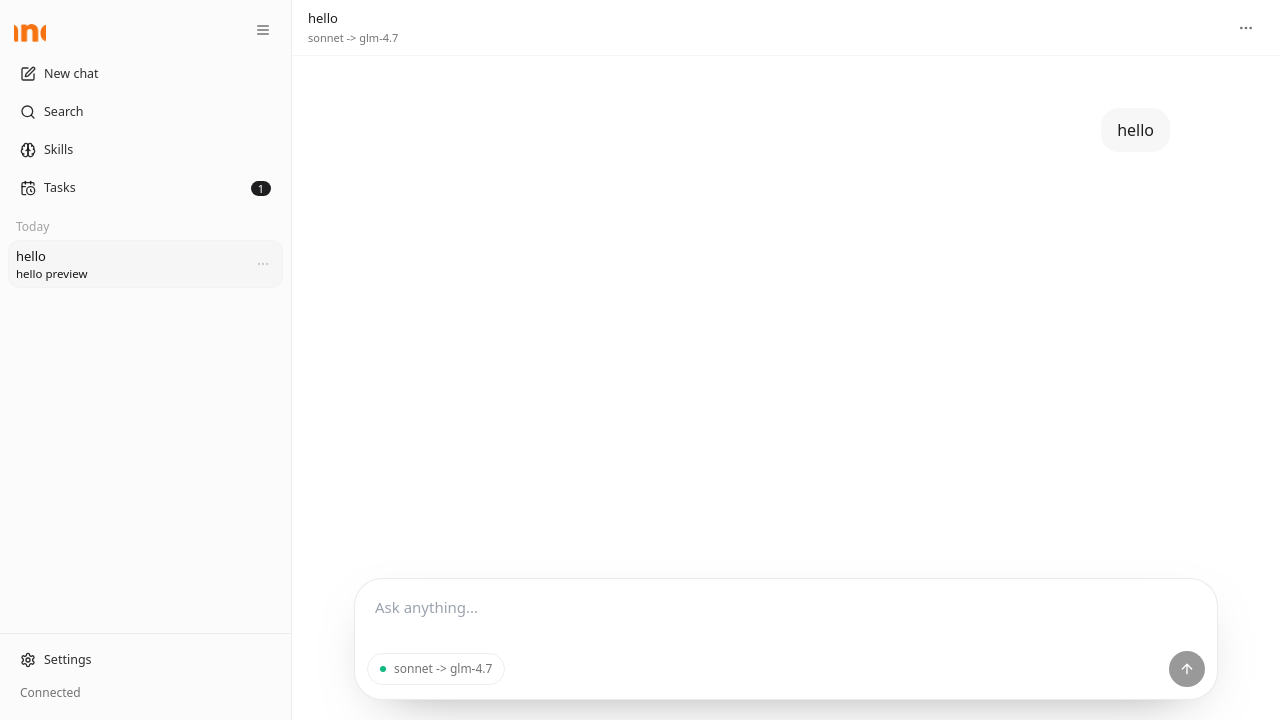
Test: App native layout › shows scheduled results from notification frames without creating an inbox session
Expected: the text "hello preview" is shown, [16,266,87,281]
Click the button "Tasks 1" at (60, 187), box [8,172,283,204]
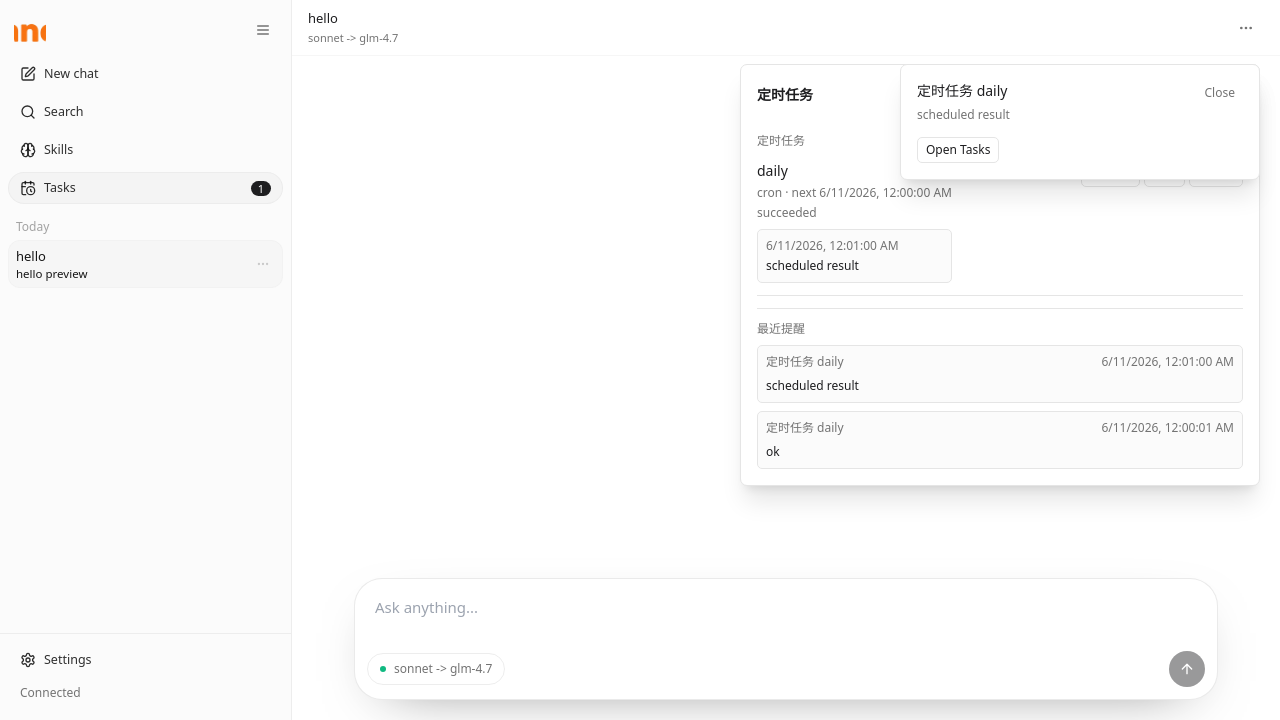
Expected: the heading "定时任务" is shown, [757,85,813,105]
Expected: the message shows "scheduled result", [917,106,1010,123]
